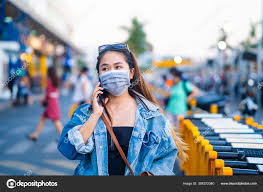with-mask: (90, 45, 139, 97)
